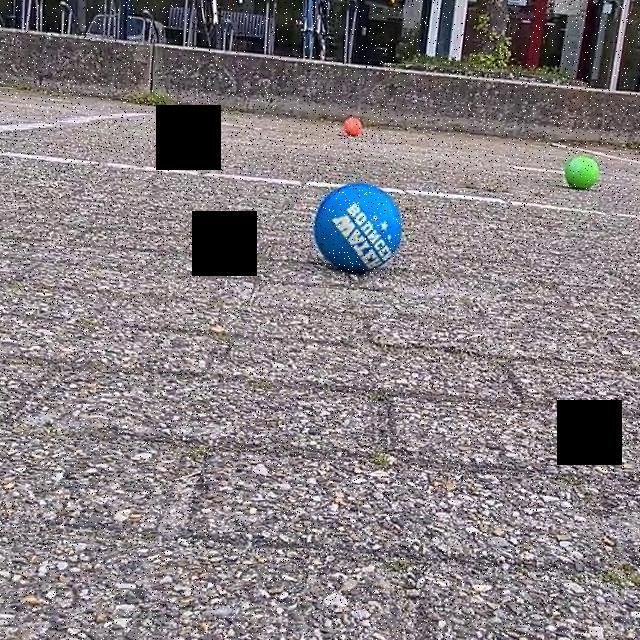ball: (562, 153, 602, 192), (339, 112, 364, 138)
